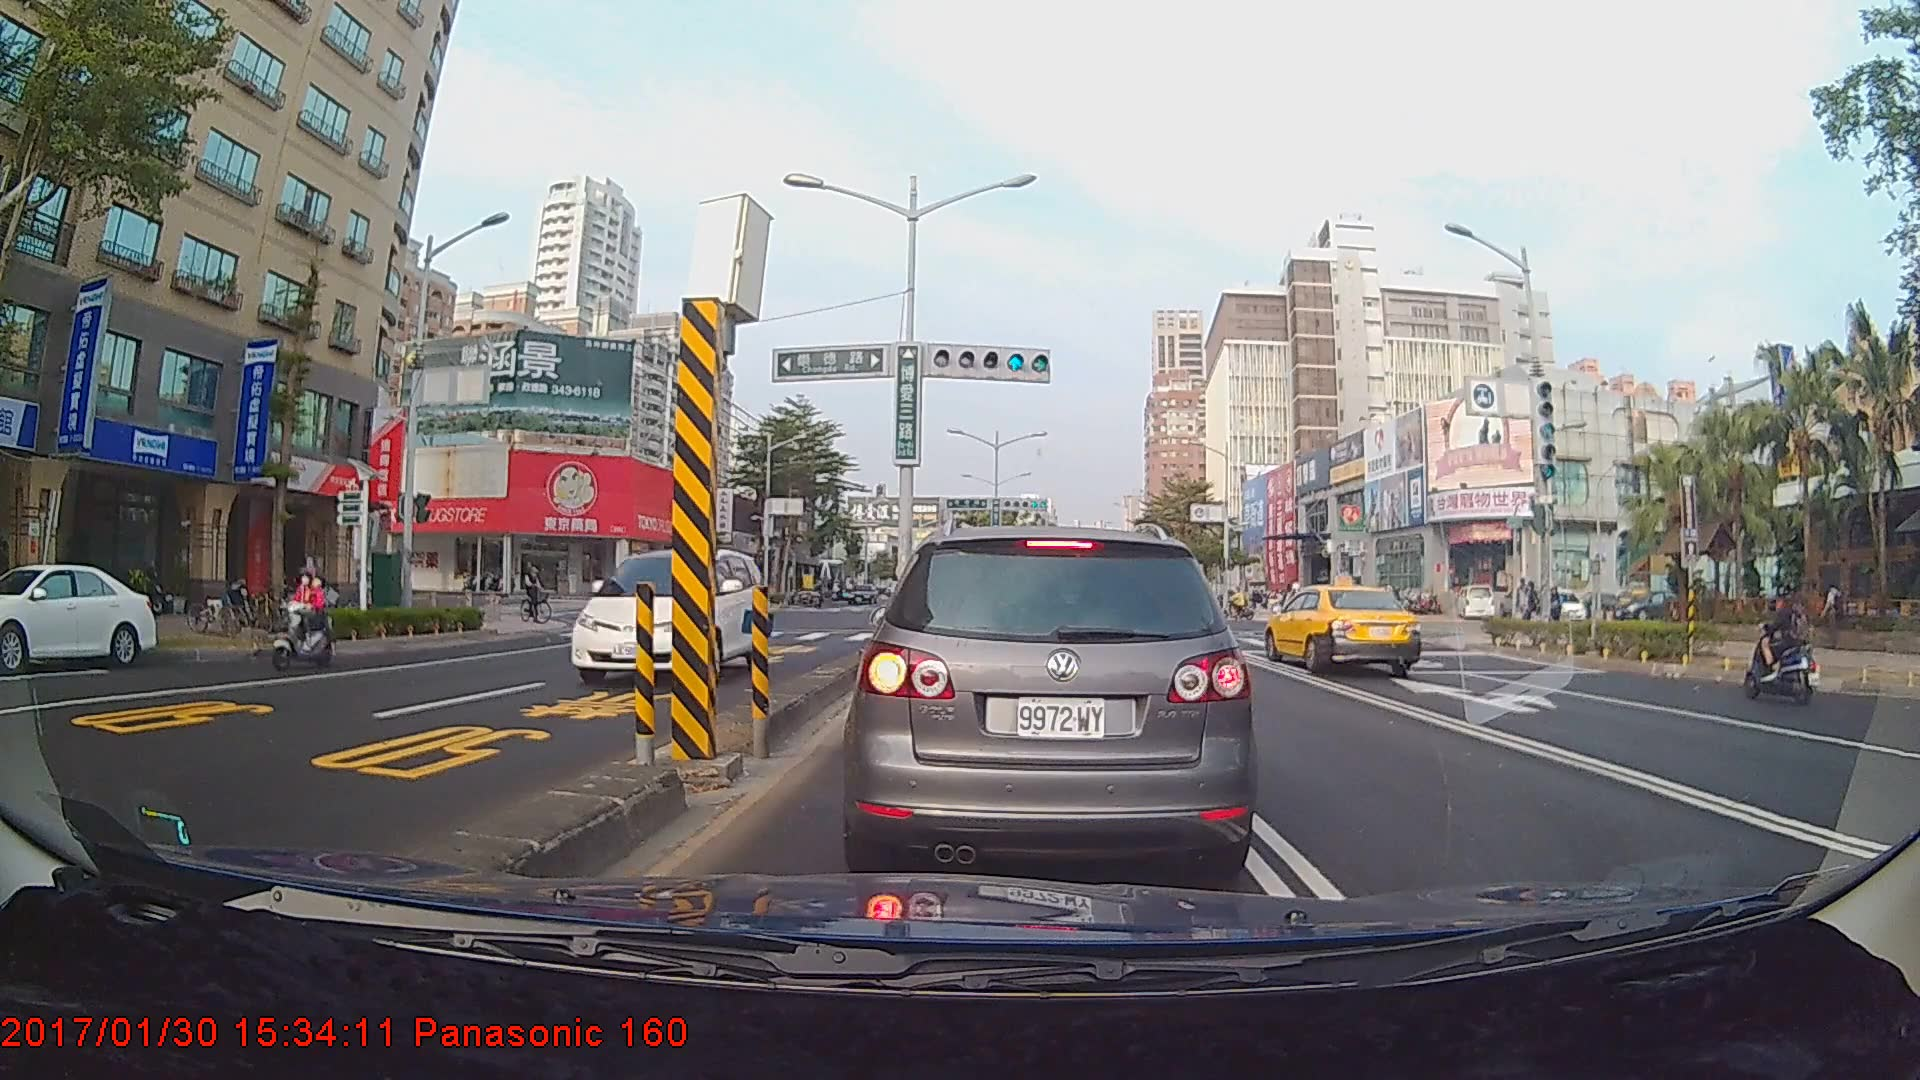pedestrian: (1821, 579, 1848, 650)
rider: (1737, 576, 1824, 710), (264, 562, 339, 678), (518, 559, 561, 629)
vehicle: (854, 520, 1247, 882), (570, 547, 772, 684), (0, 561, 158, 671), (1263, 580, 1424, 678)
